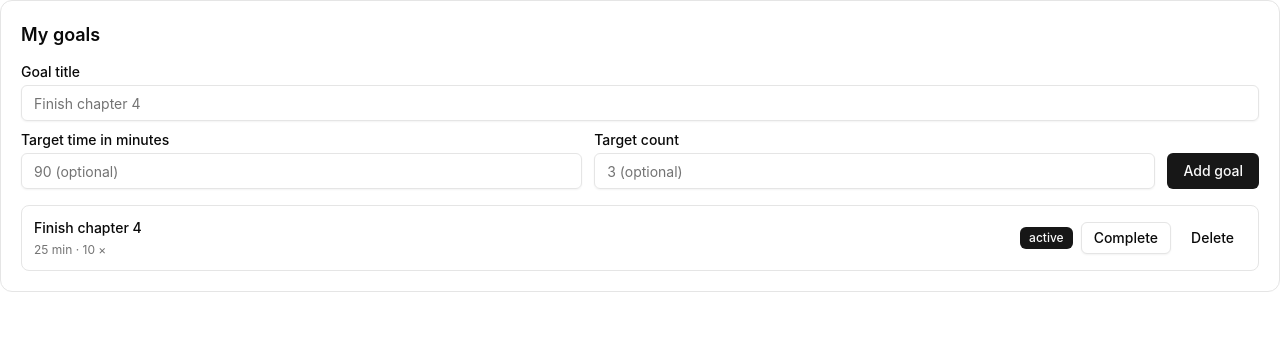
Test case: GoalsPanel › shows the server's message when the goal is not the caller's
Click the button with aria-label "Delete goal Finish chapter 4".
click(1213, 238)  # box [1179,222,1246,254]
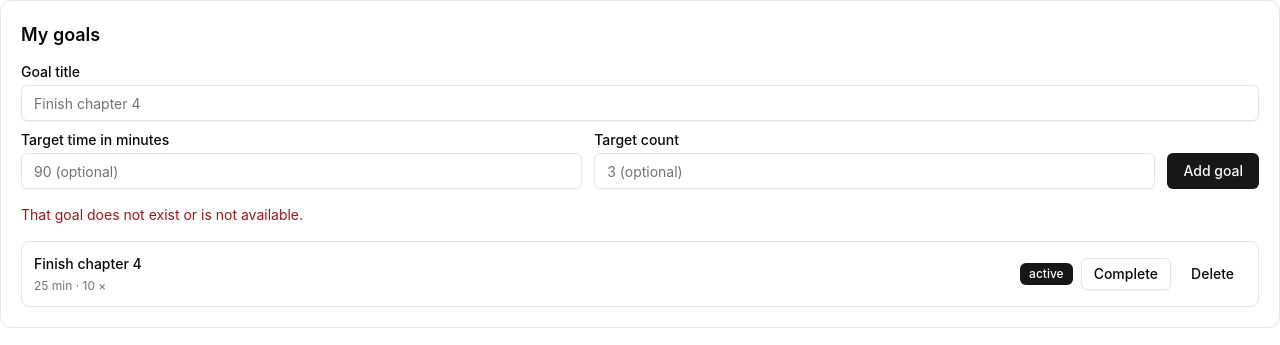
Expected: the text "Finish chapter 4" is shown, [34,254,142,274]
Now the message reads "That goal does not exist or is not available.", box [21,206,303,223]
